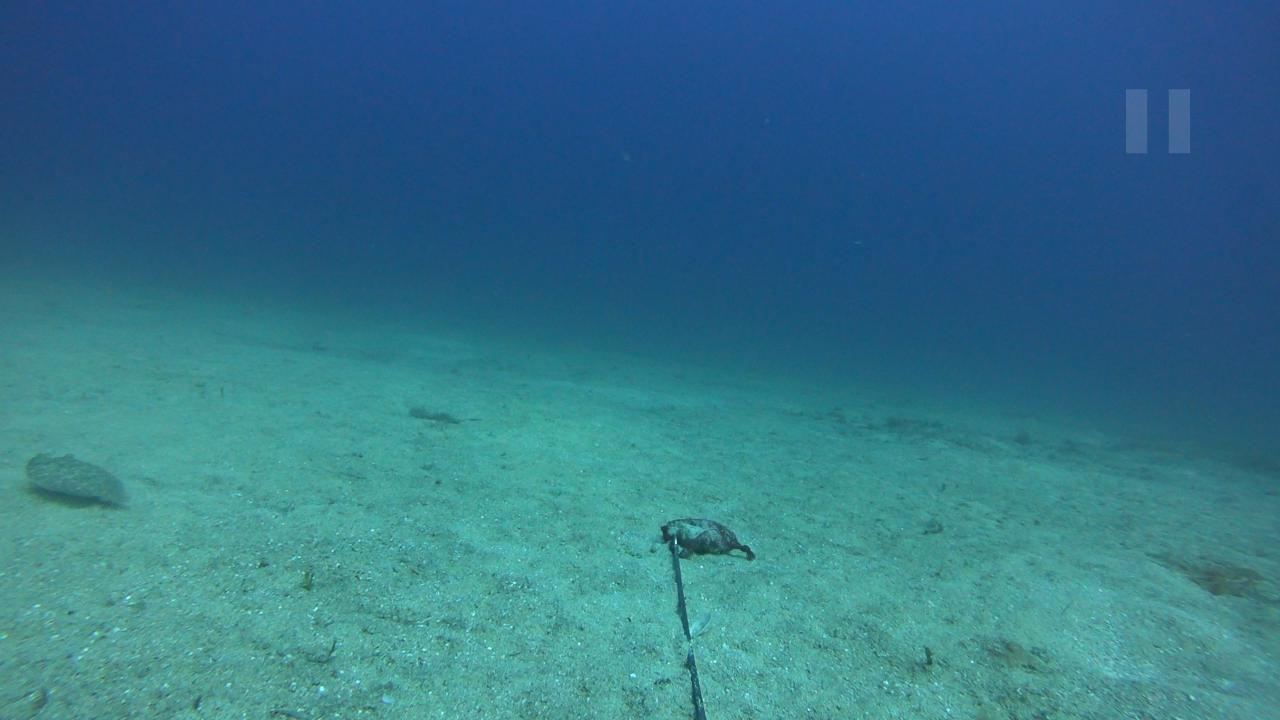bothus: (21, 448, 129, 509)
